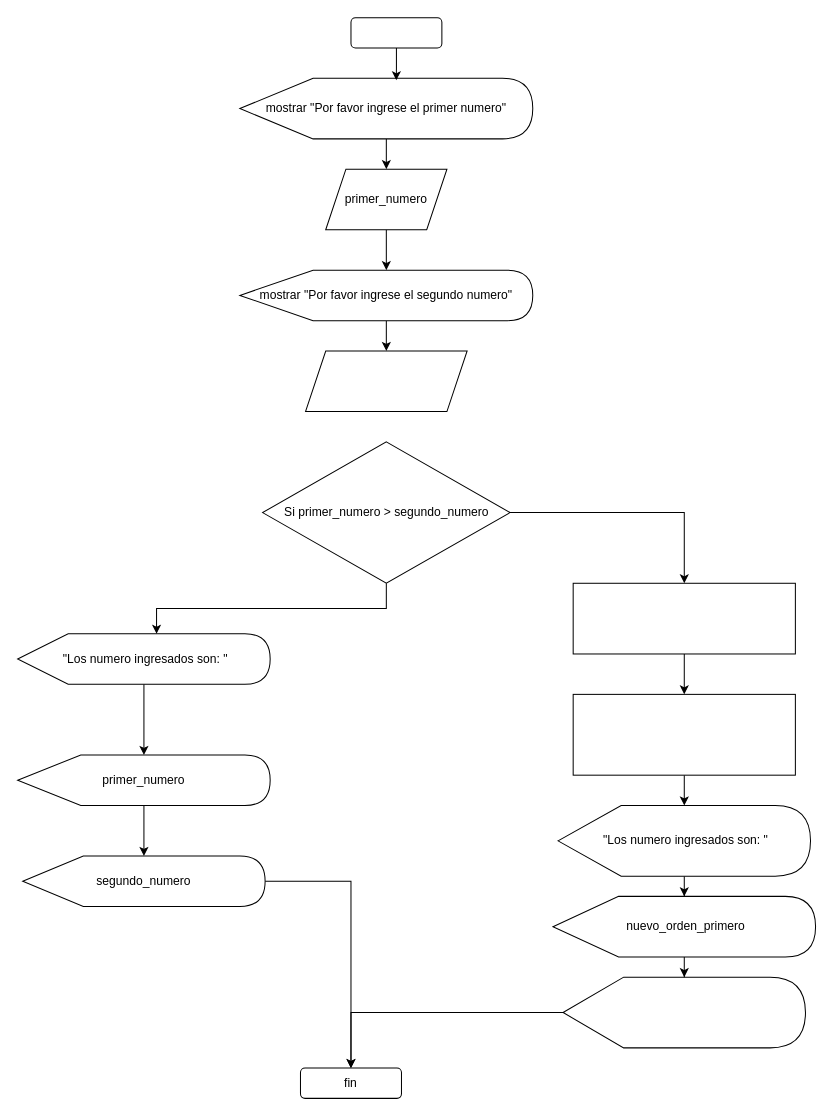
Some shapes in this 833 by 1116 pixel diagram are drawn without their labels. The shapes that lost their labels are listed below. From the top down, each one's box as (x1, y1, x2, y2) in pixels, then its label:
(350, 17, 442, 48): inicio
(305, 350, 467, 412): Pedir segundo_numero
(572, 582, 795, 654): nuevo_orden_primero= segundo_numero
(572, 693, 795, 775): nuevo_order_segundo = primer_numero
(562, 976, 805, 1048): nuevo_order_segundo
